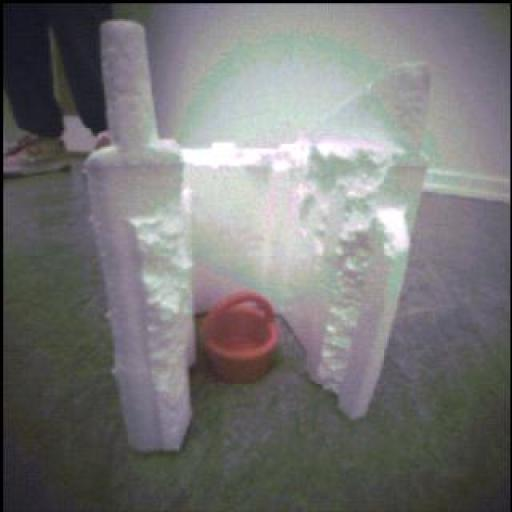Bucket: (203, 292, 280, 385)
